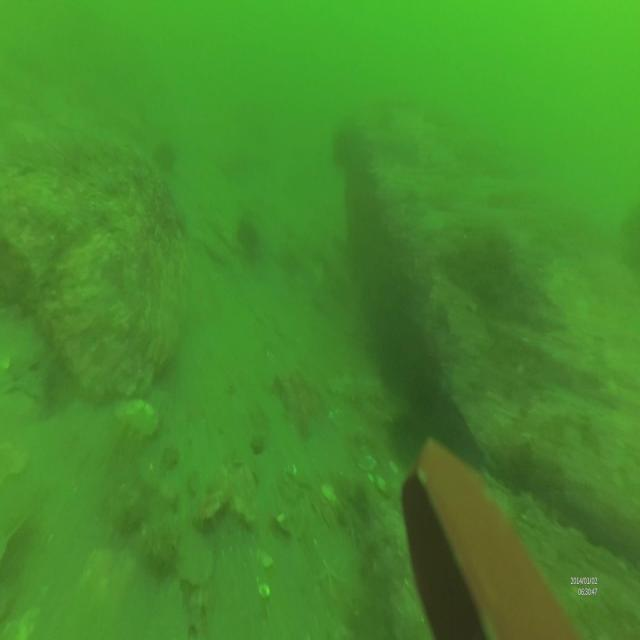echinus: (331, 120, 359, 168), (236, 215, 260, 261), (152, 136, 176, 172)
holothurian: (327, 370, 385, 405)
